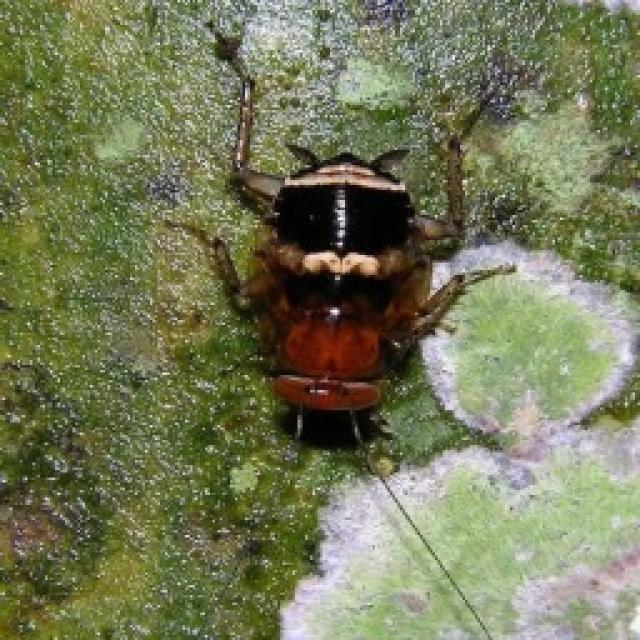cockroach: (187, 118, 503, 482)
